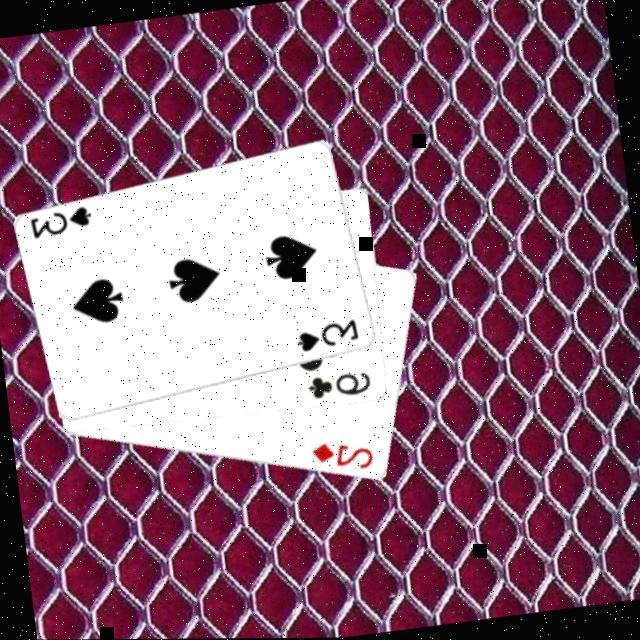2D: (310, 435, 380, 479)
3S: (295, 316, 366, 356), (28, 202, 99, 242)
6C: (306, 368, 377, 405)
